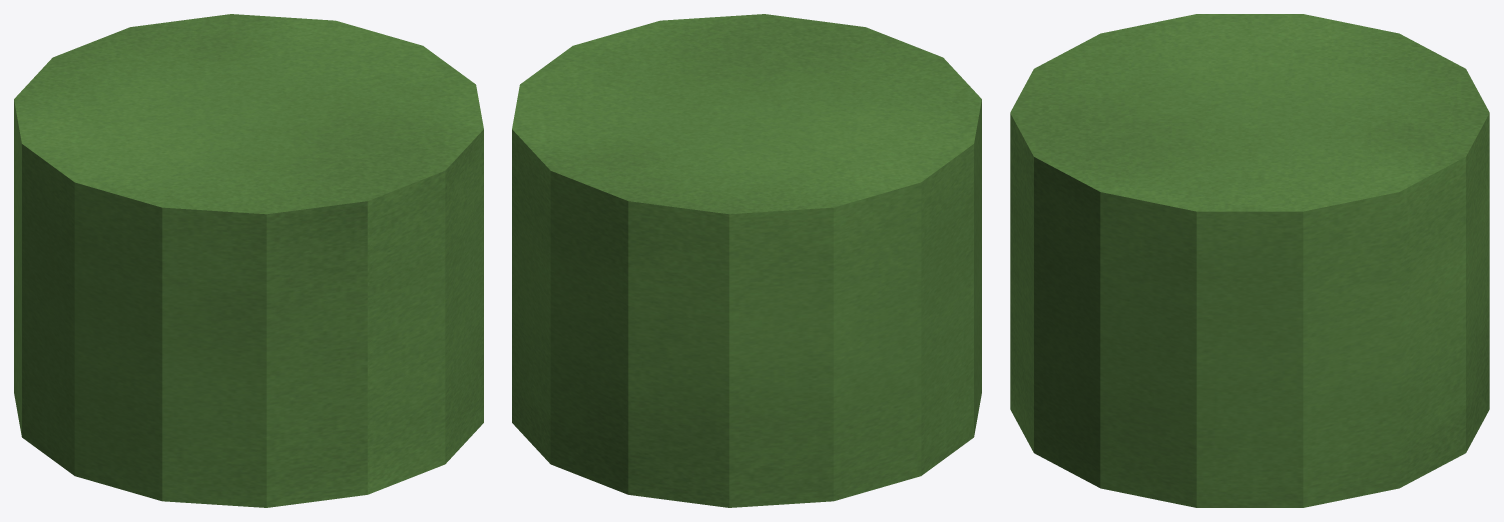
File: bale.fbx
3 views of the same model, side by side, from view 1: azimuth 30°, elevation 25°; view 2: azimuth 150°, elevation 25°; view 3: azimuth 270°, elevation 25° (orthographic).
Parts seen in each view (by area): view 1: bale; view 2: bale; view 3: bale.
Boxes of the visible parts, x1,y1,x2,y2 form: bale: (14,14,483,507); bale: (512,14,981,507); bale: (1010,14,1489,507).
Size of the model in its own units: 214 by 150 by 220.
